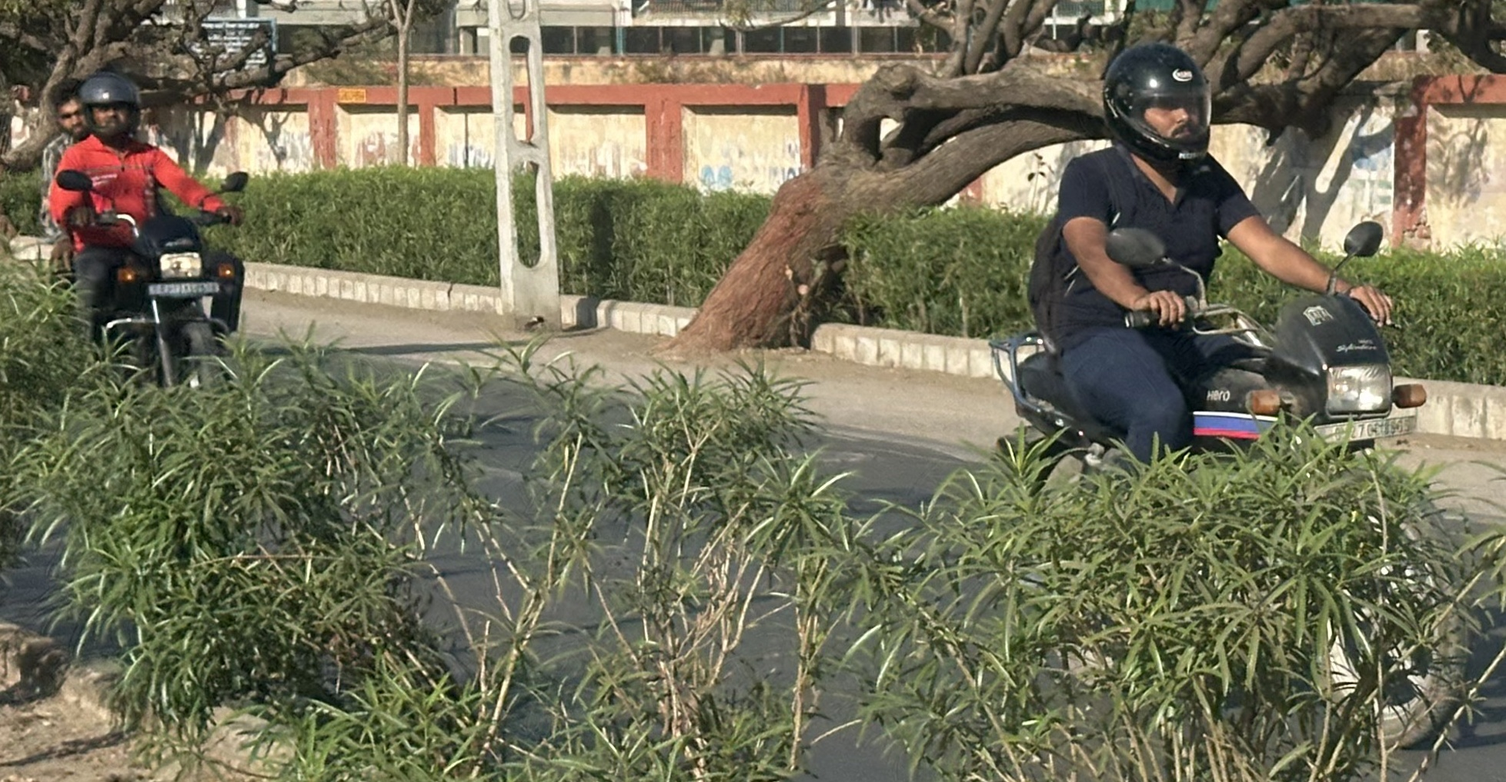BikeWithRider: (976, 31, 1485, 750), (25, 65, 268, 457)
Helmet: (73, 65, 154, 151)
NoHelmet: (1089, 29, 1230, 183), (42, 68, 98, 151)
